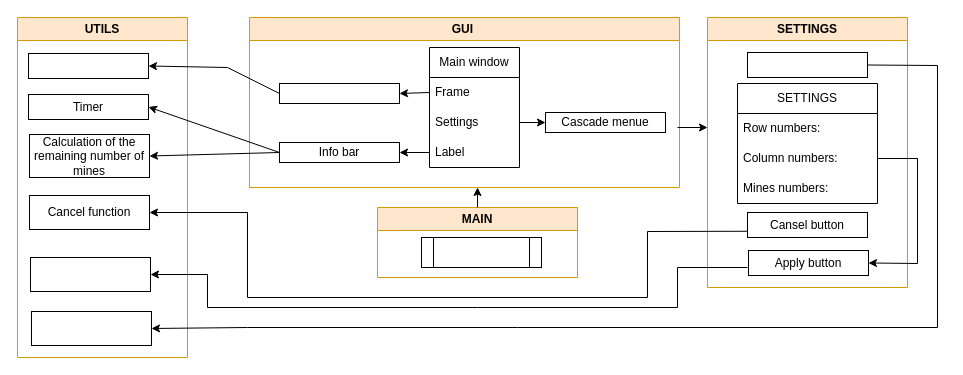
The diagram is 963 pixels wide and 375 high, and some of its shapes have lost their labels. Here are the shapes that lost their labels. From the top down, the centre of each, then its label:
At point (88, 65): "Button functions".
At point (807, 65): "New Game".
At point (339, 93): "Buttons".
At point (481, 252): "Run GUI".
At point (90, 274): "Apply function".
At point (91, 328): "New Game reload".
